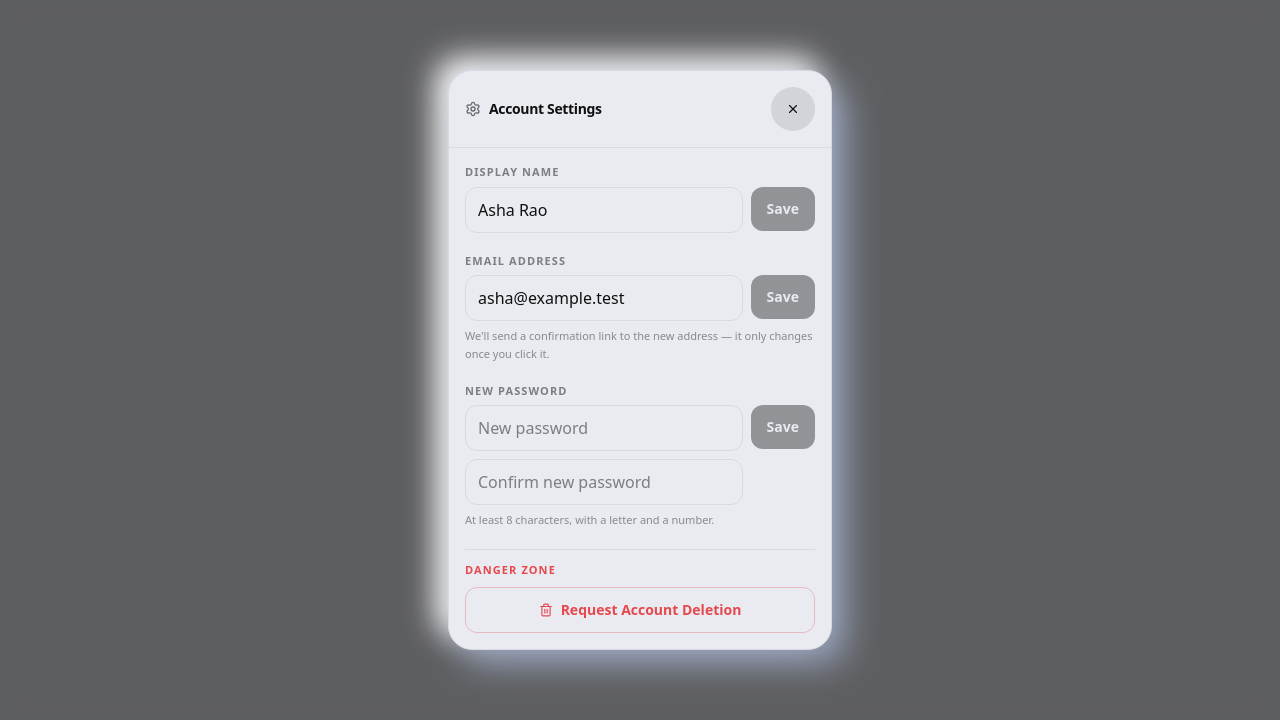
Scenario: AccountSettingsModal — password, on an email/password account › rejects a weak password
In the password field with placeholder "New password": x=604, y=428 [465,405,743,451], type "abcdefgh"
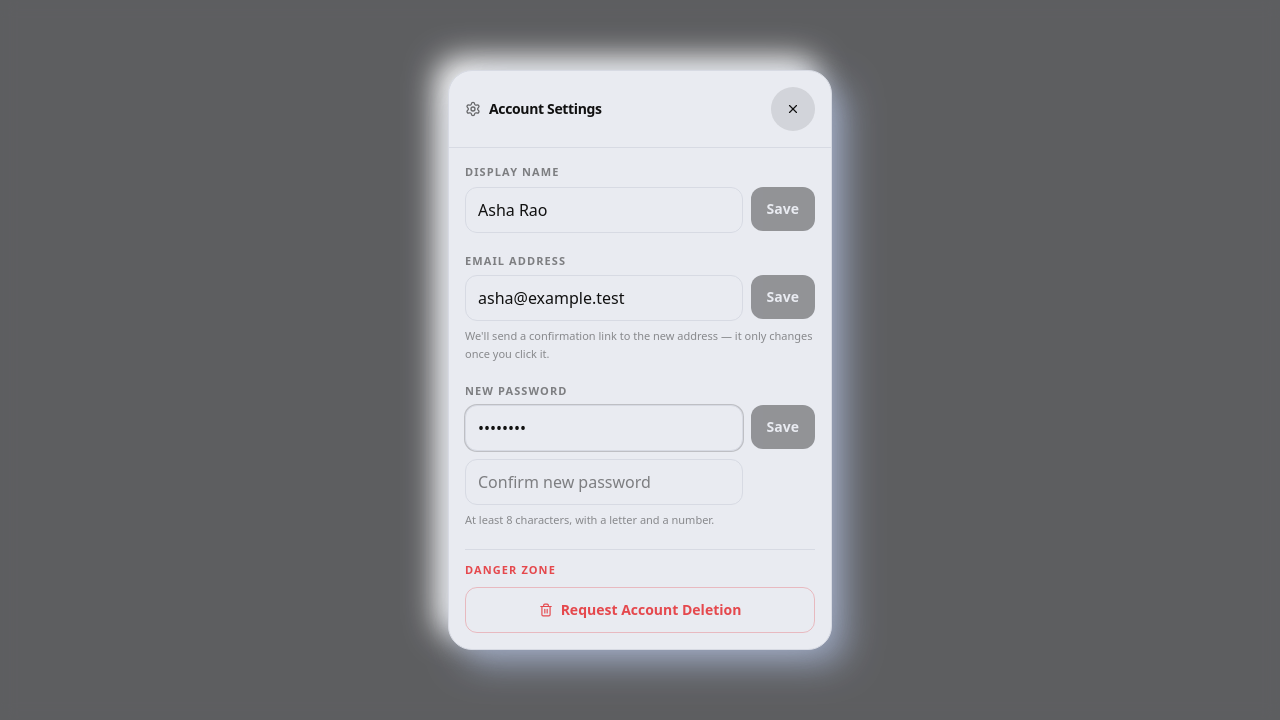
In the password field with placeholder "Confirm new password": x=604, y=482 [465,459,743,505], type "abcdefgh"
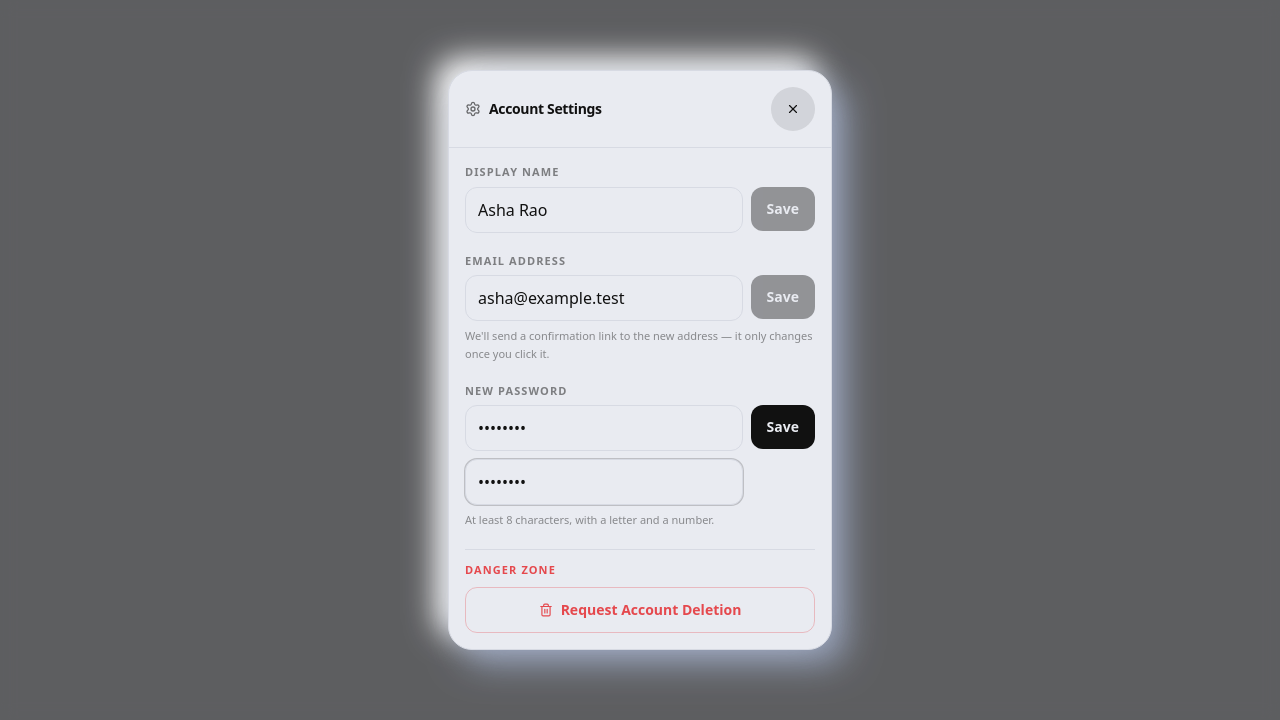
Click the button "Save" below "New Password": x=783, y=427 [751,405,815,449]
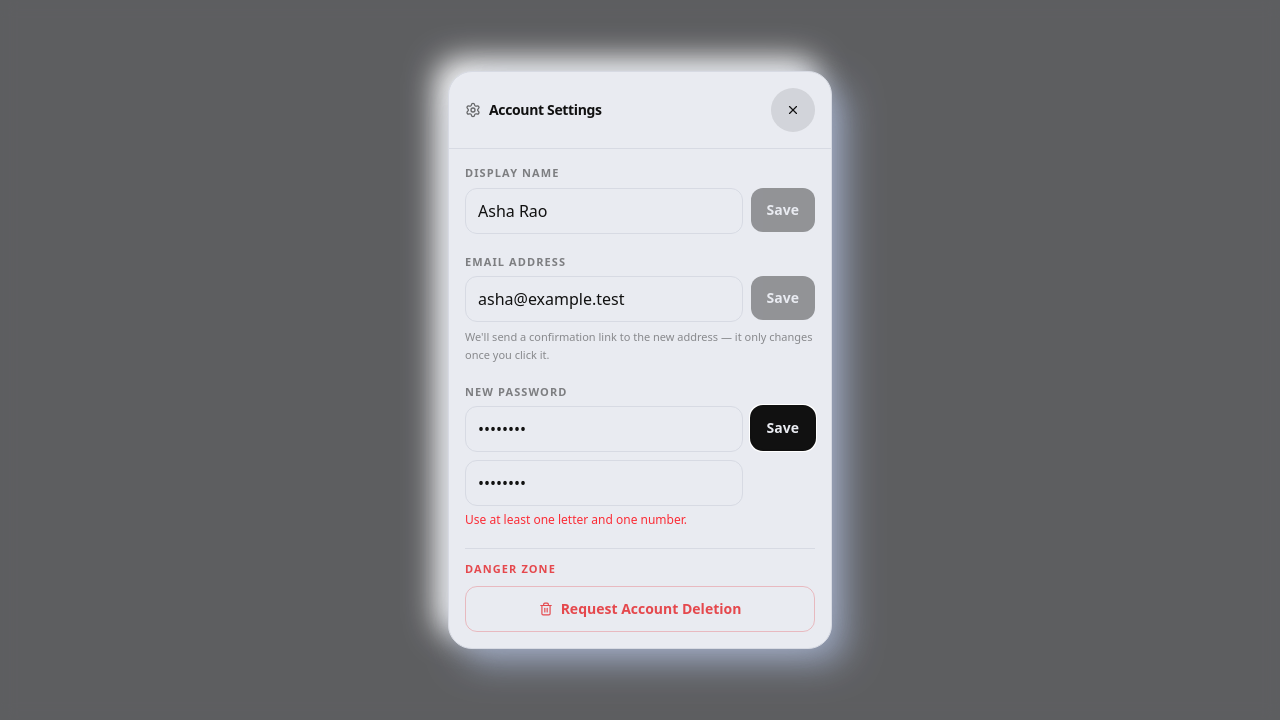
expect the text "Use at least one letter and one number." is shown: met, box [465,511,687,528]
